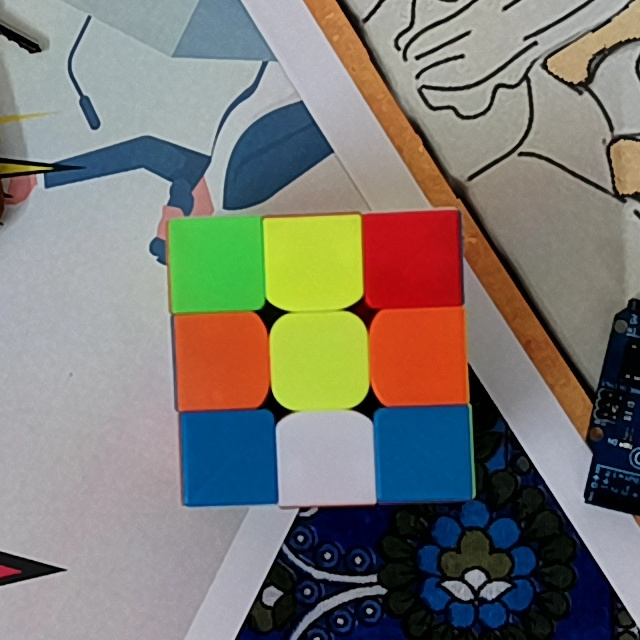tile: (370, 217, 457, 301), (381, 315, 463, 397), (174, 222, 257, 303), (283, 420, 366, 499), (180, 320, 259, 400), (190, 418, 270, 497), (384, 414, 464, 492), (273, 222, 355, 297), (282, 322, 359, 398)
